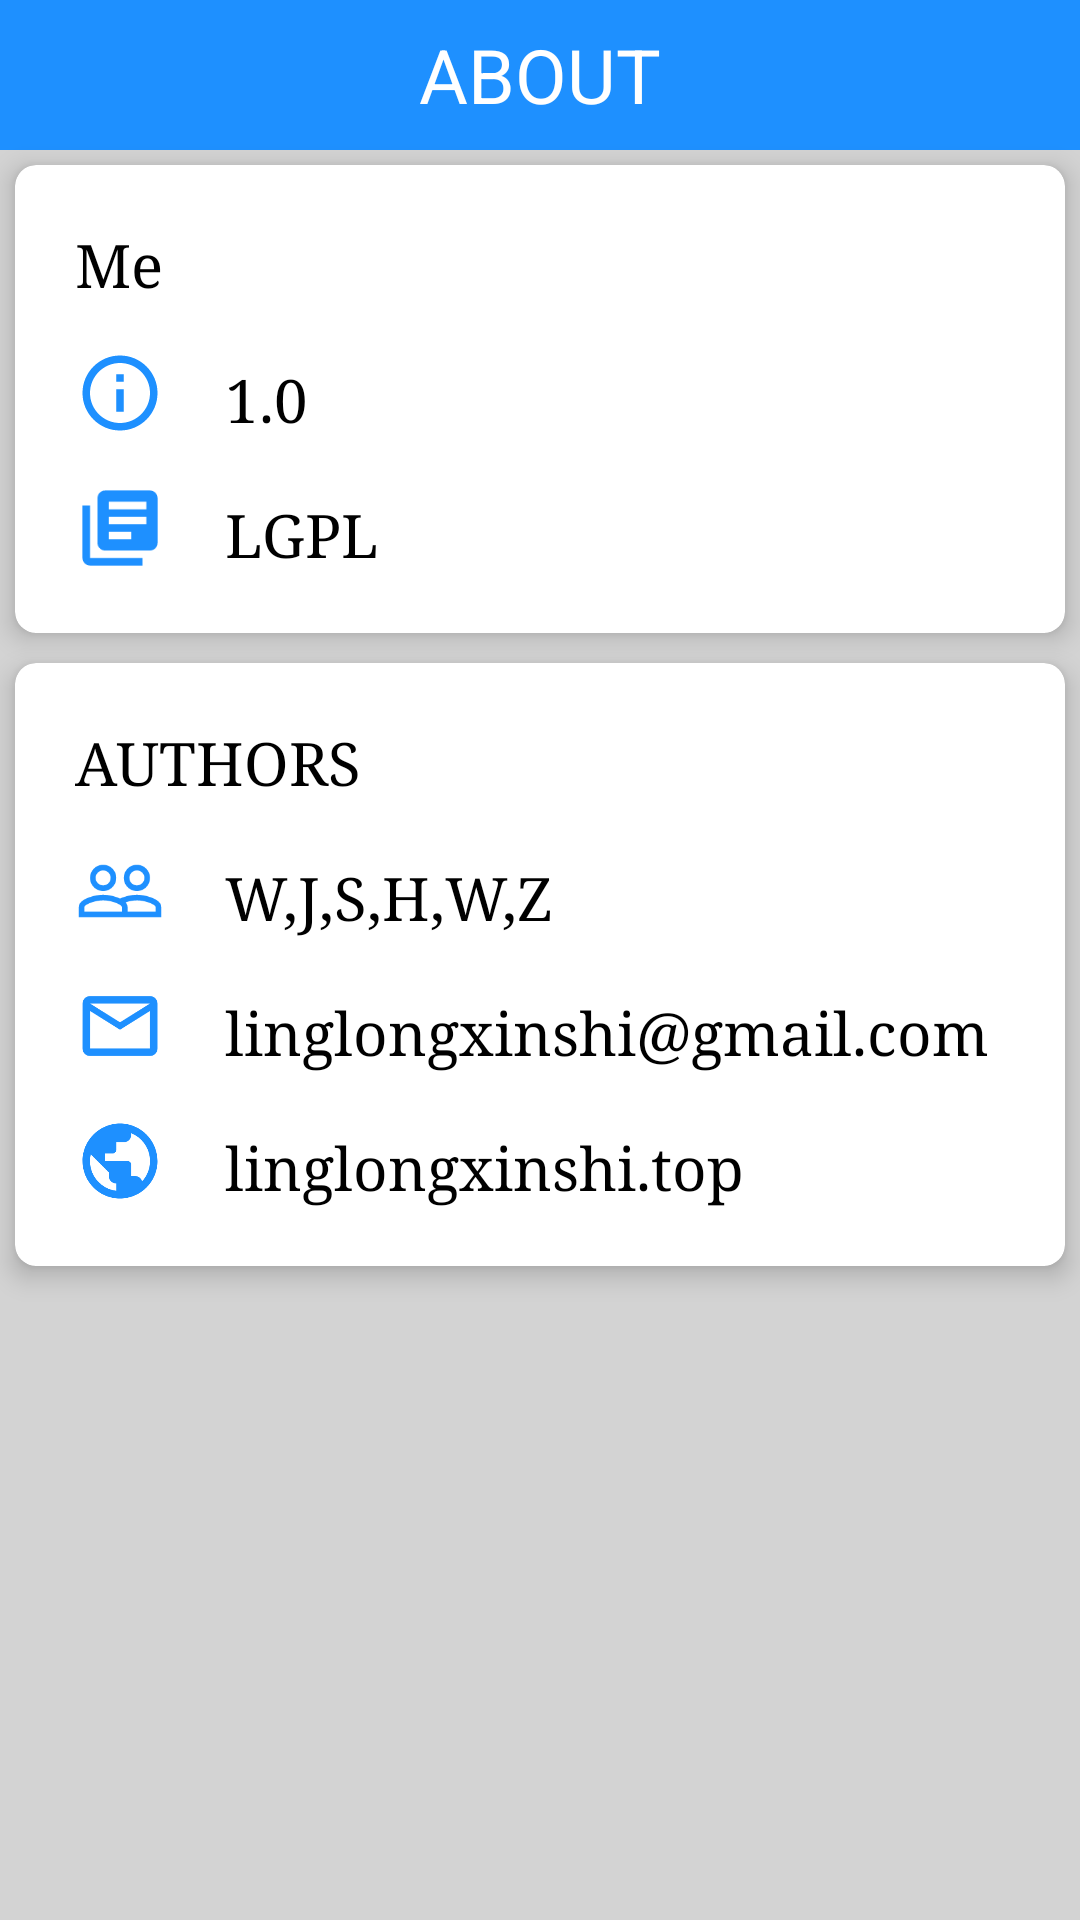

Where icons sit on this 1080*1920 app screen, as (x1, y1, x2, y2):
license: (82, 490, 158, 566)
team: (78, 864, 162, 918)
version: (82, 355, 158, 431)
web: (82, 1123, 158, 1199)
